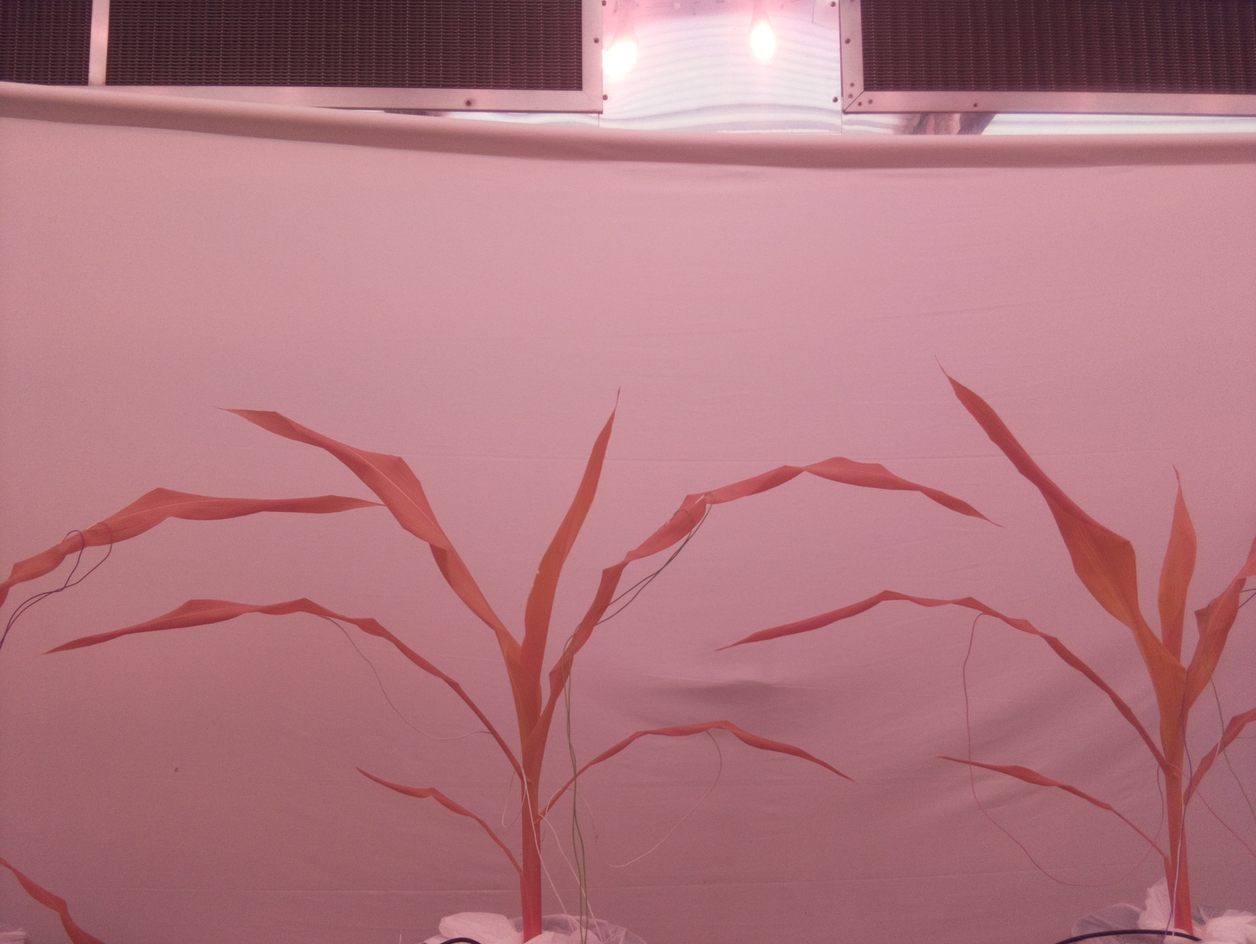maize: (40, 385, 1004, 944), (716, 355, 1256, 944), (0, 486, 385, 944)
